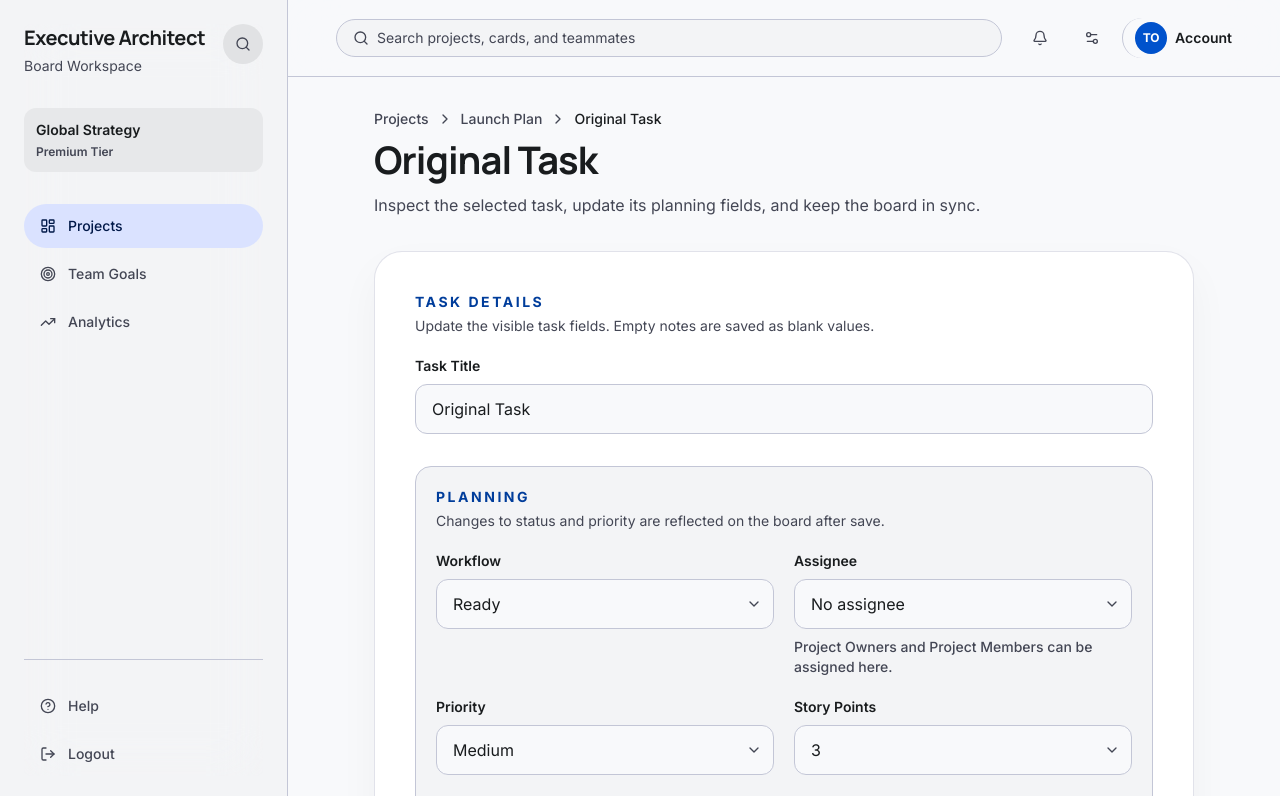
TaskDetailPage › shows selected task details and persists edits into the task cache
The width and height of the screenshot is (1280, 796).
Replace the text in the field labelled "Task Title" with "Updated Task": [784, 409] box [415,384,1153,434]
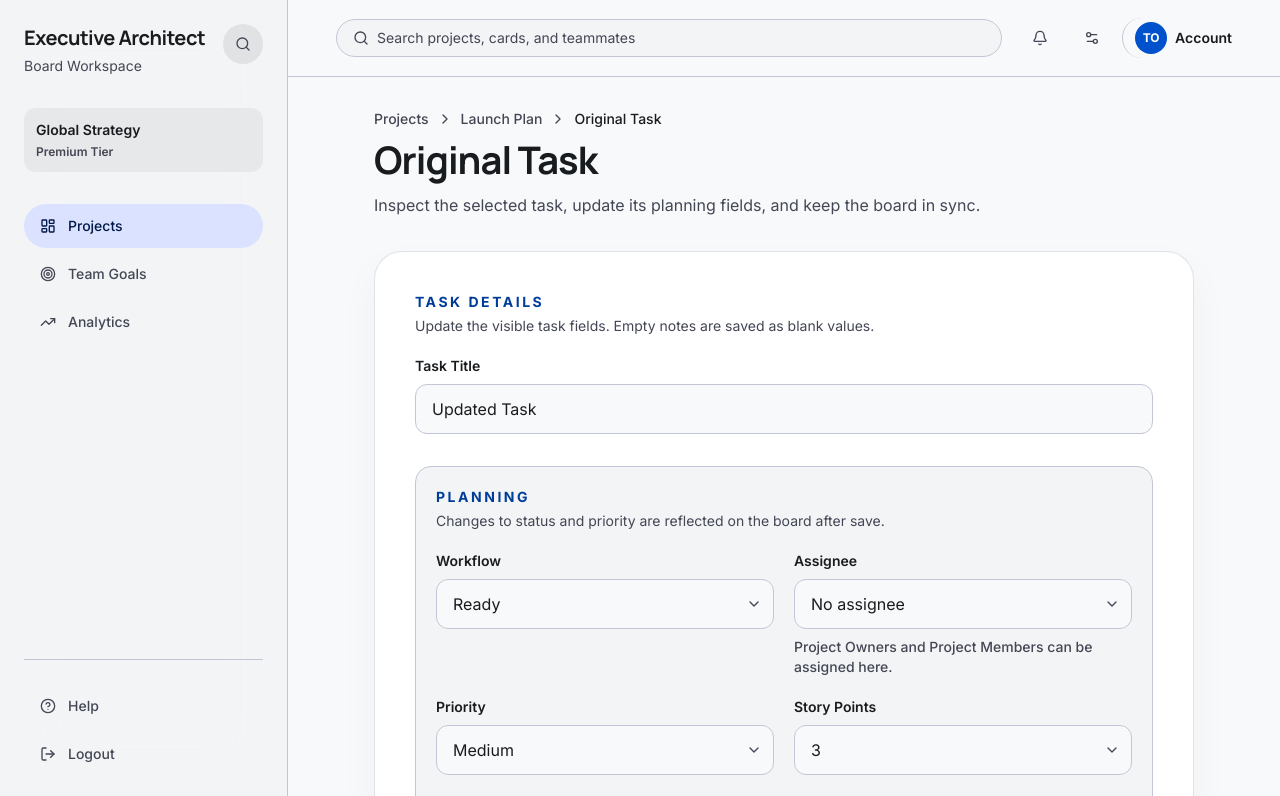
Select "High" in the dropdown labelled "Priority": [605, 750] box [436,725,774,775]
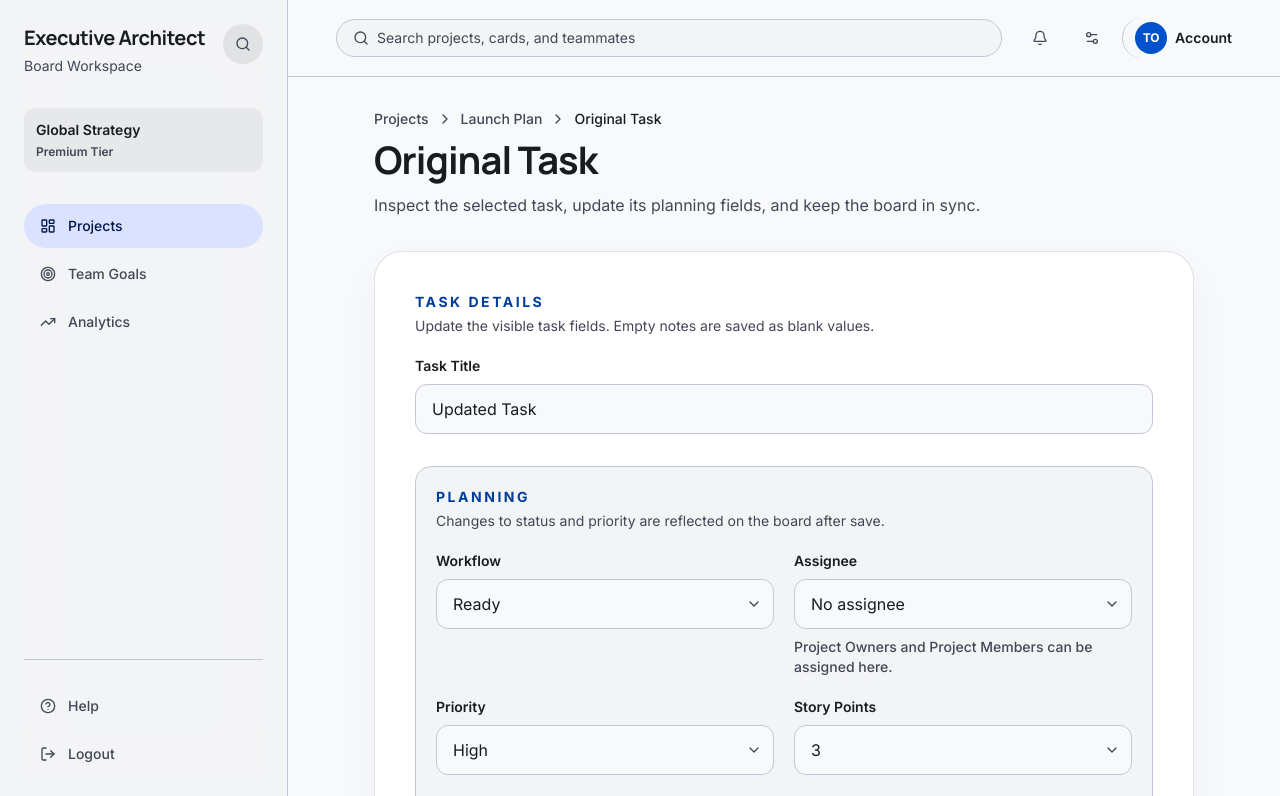
Select "8" in the dropdown labelled "Story Points": [963, 750] box [794,725,1132,775]
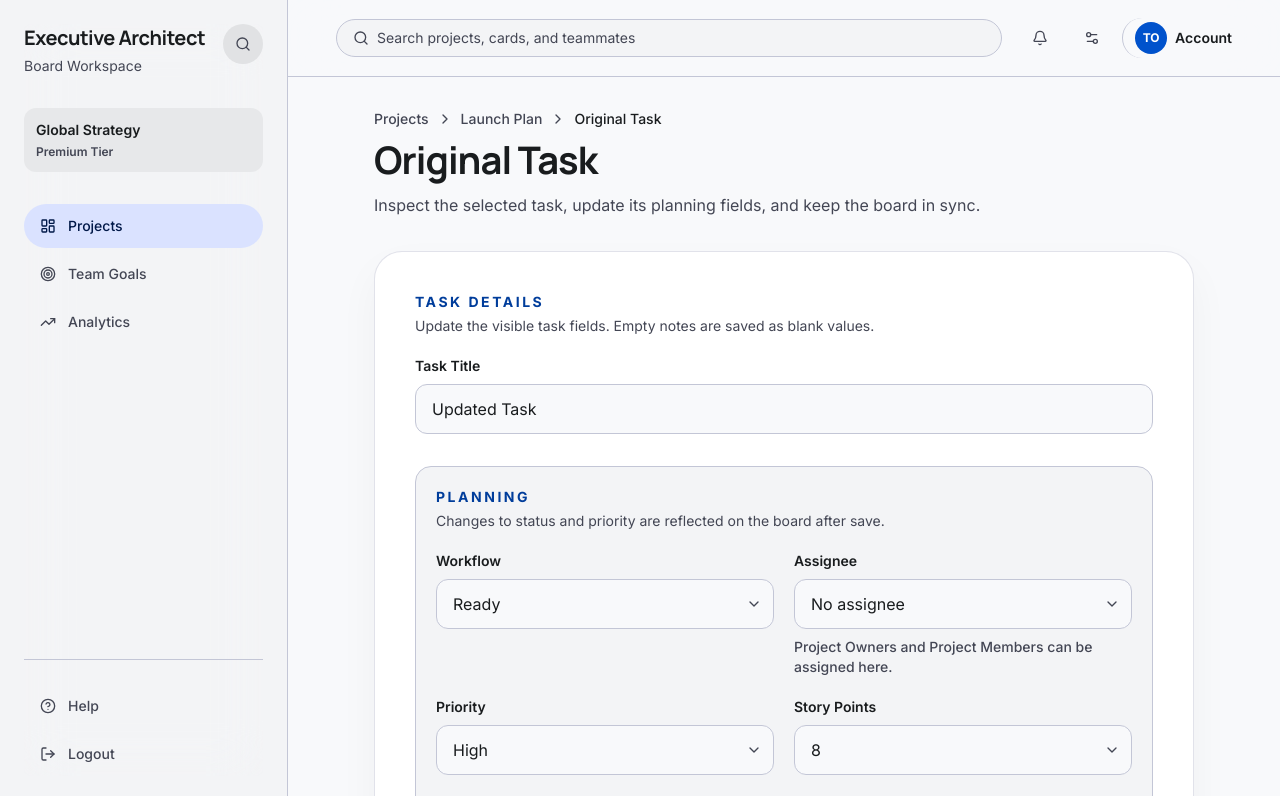
Select "Released" in the dropdown labelled "Workflow": [605, 604] box [436,579,774,629]
(page scrolled)
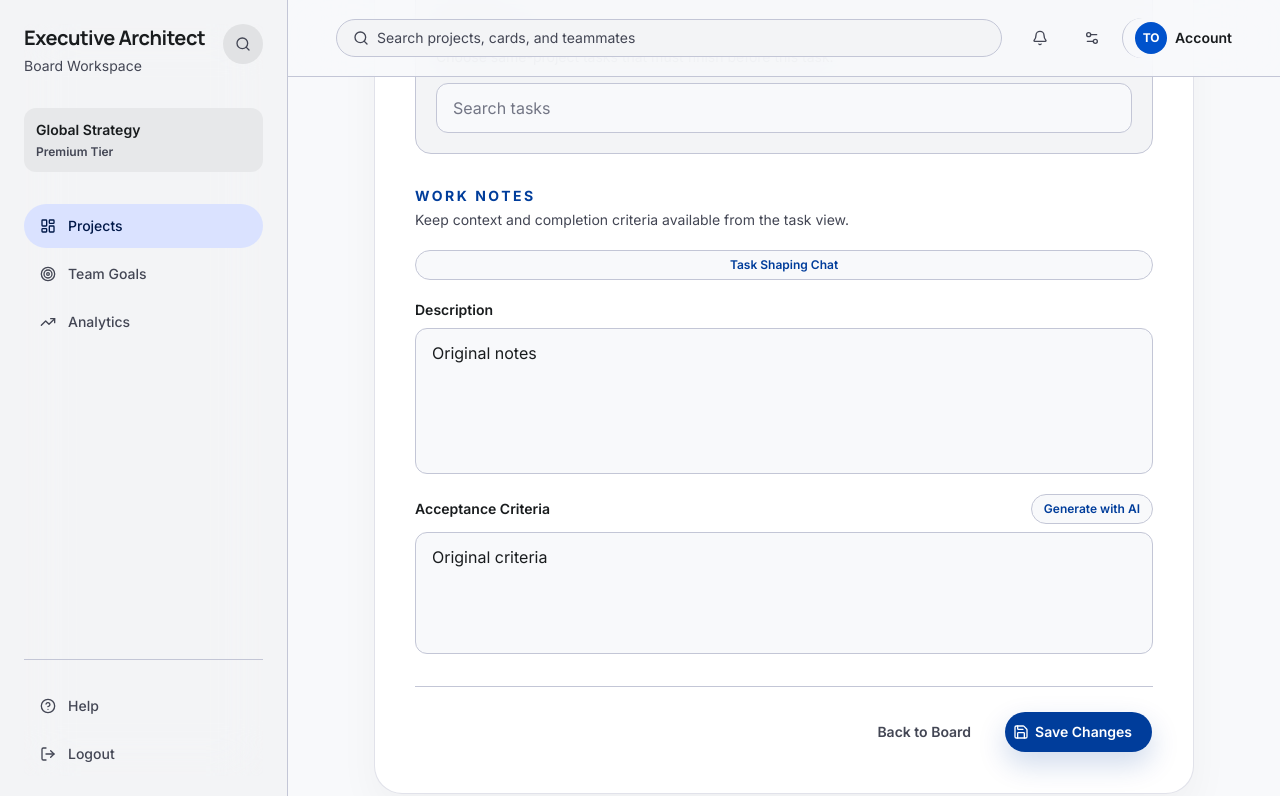
Replace the text in the text box labelled "Description" with "Updated notes": [784, 401] box [415,328,1153,474]
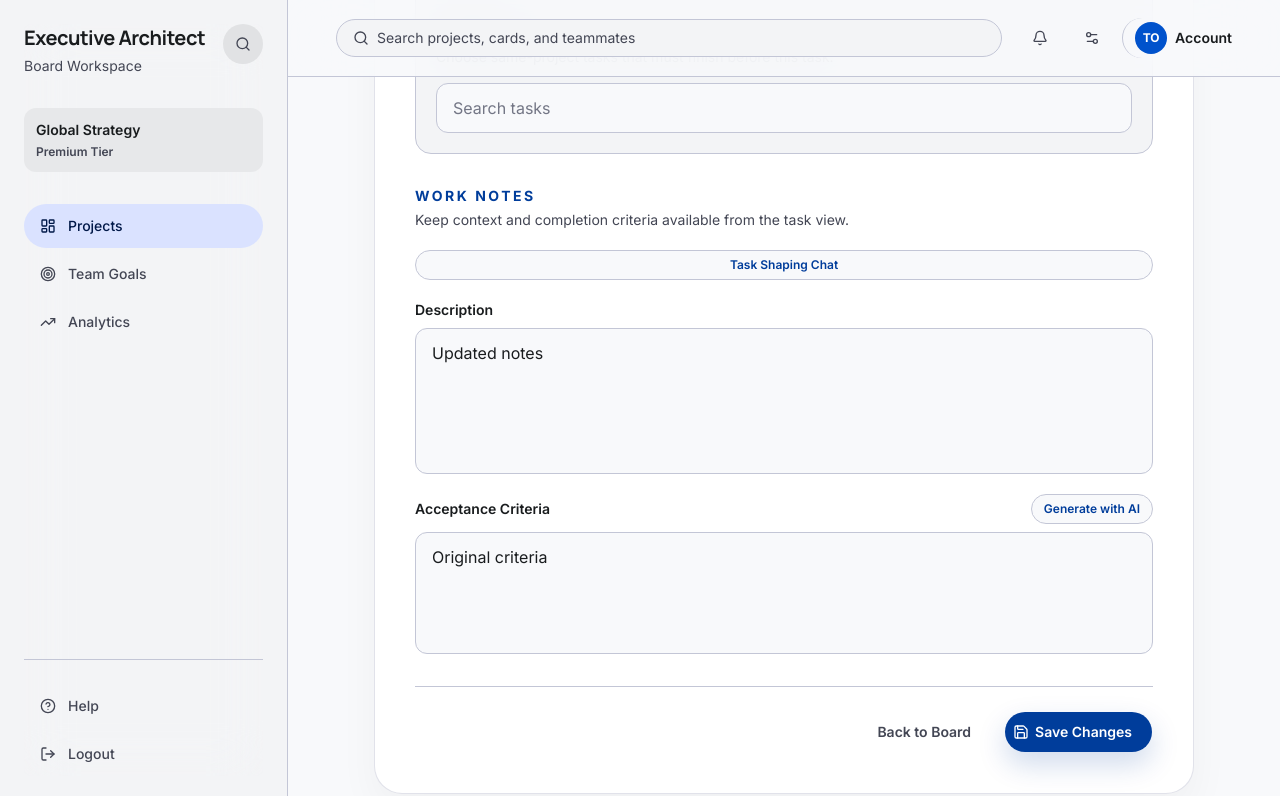
Click the button "Save Changes": [1079, 732] box [1004,711,1153,753]
(page scrolled)
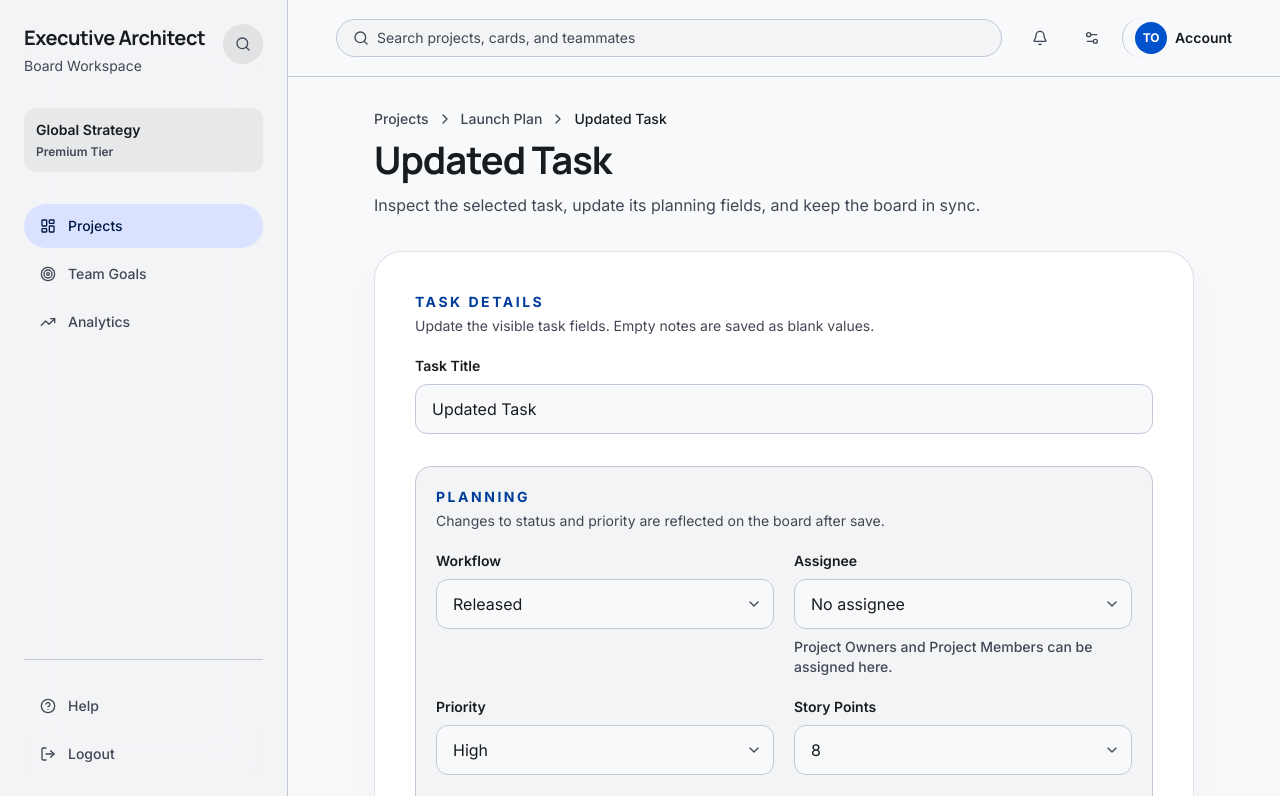
Check: the text "Updated Task" is shown, box [574,109,667,129]
